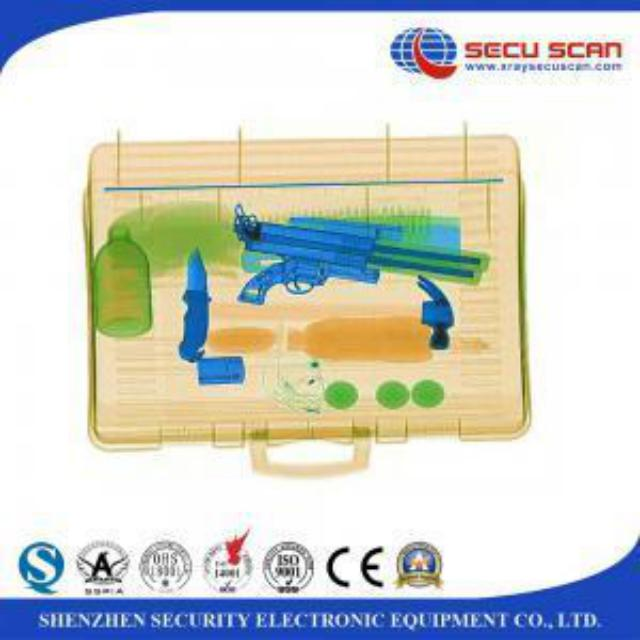Gun: (222, 208, 488, 304)
Knife: (173, 245, 210, 359)
